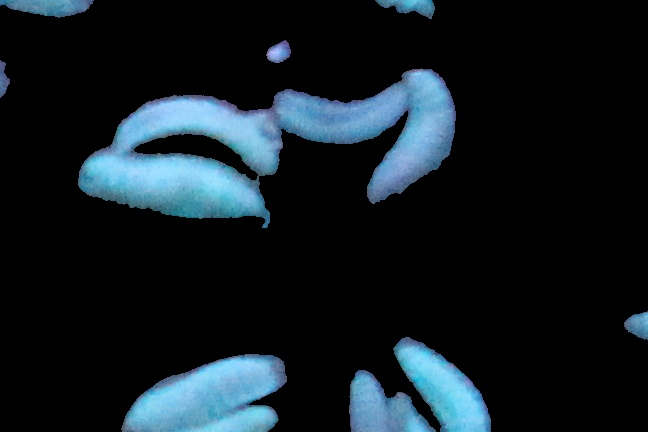larvae: (106, 352, 292, 432), (77, 152, 265, 223), (115, 99, 275, 175), (370, 72, 452, 206), (388, 337, 500, 432), (275, 85, 410, 142), (343, 366, 393, 432), (186, 406, 282, 432)
